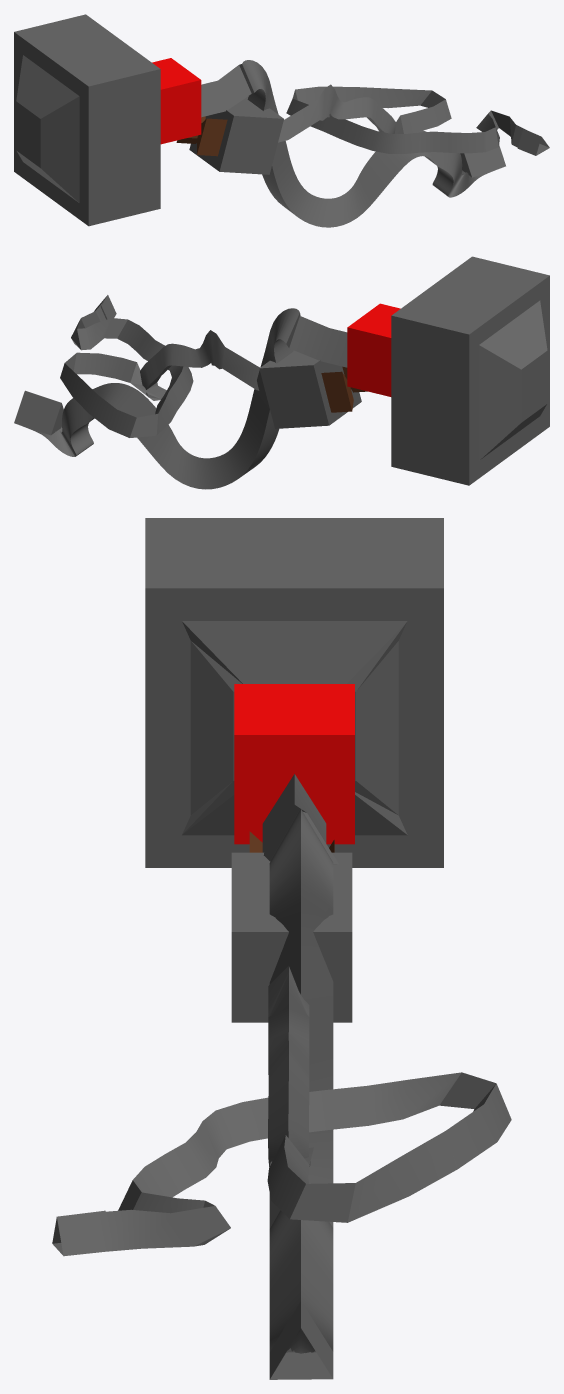
Rendered from btn_plug.FBX.
The picture shows the model from 3 angles, top to bottom: view 1: azimuth 30°, elevation 25°; view 2: azimuth 150°, elevation 25°; view 3: azimuth 270°, elevation 25°; orthographic projection. The views are drawn at different scales.
Visible parts, largest first — view 1: btn_CASE, btn_OFF, btn_ON; view 2: btn_CASE, btn_OFF, btn_ON; view 3: btn_CASE, btn_OFF, btn_ON.
Boxes of the visible parts, x1,y1,x2,y2 form: btn_CASE: (14, 14, 160, 226); btn_OFF: (176, 84, 549, 174); btn_ON: (152, 58, 505, 227); btn_CASE: (391, 256, 549, 485); btn_OFF: (60, 295, 367, 437); btn_ON: (14, 303, 400, 489); btn_CASE: (145, 518, 443, 867); btn_OFF: (52, 831, 511, 1256); btn_ON: (234, 684, 354, 1379).
Size of the model in its own units: 383 by 179 by 162.
